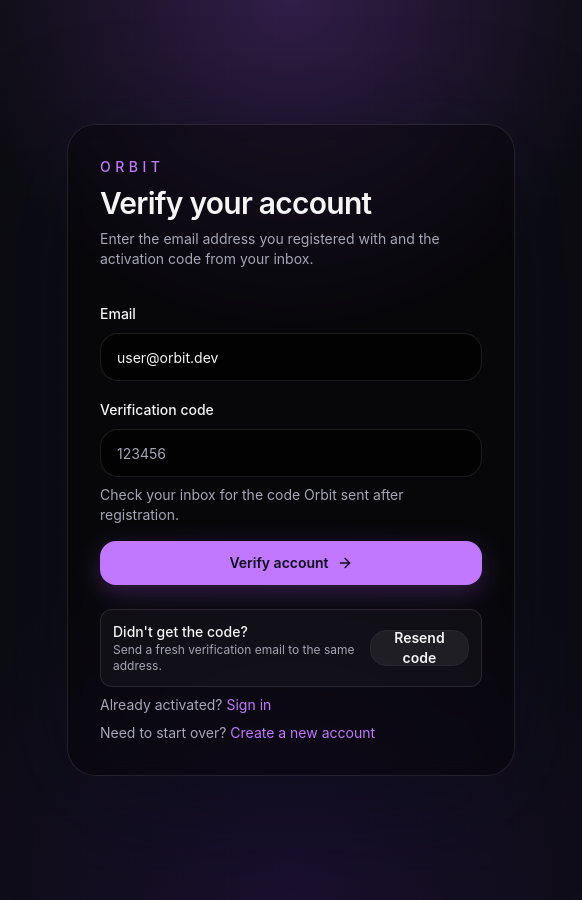
it: VerifyAccountPage › shows a graceful resend error when the backend route is unavailable
Click the button "Resend code" at [419, 648], box [370,630,469,666]
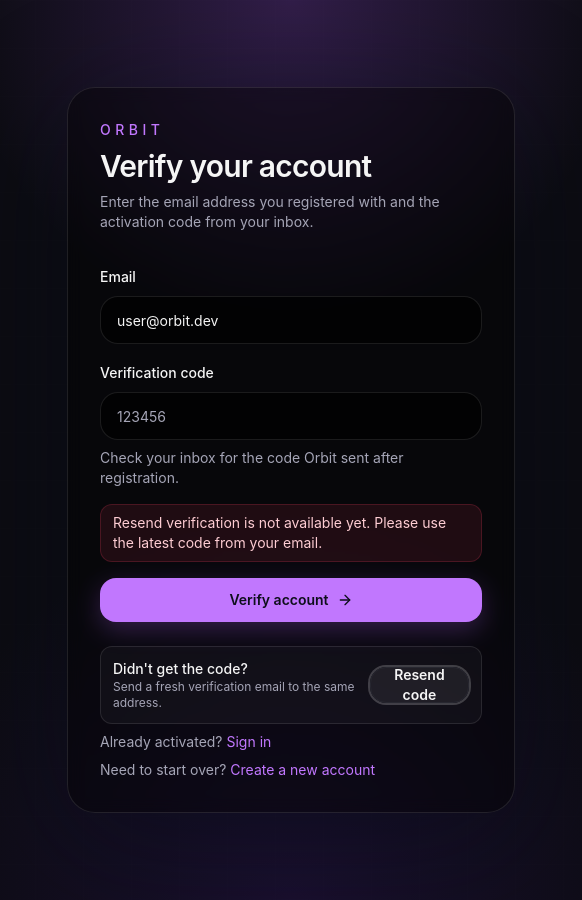
expect the text "Resend verification is not available yet." is shown: met, box [113,514,446,551]
